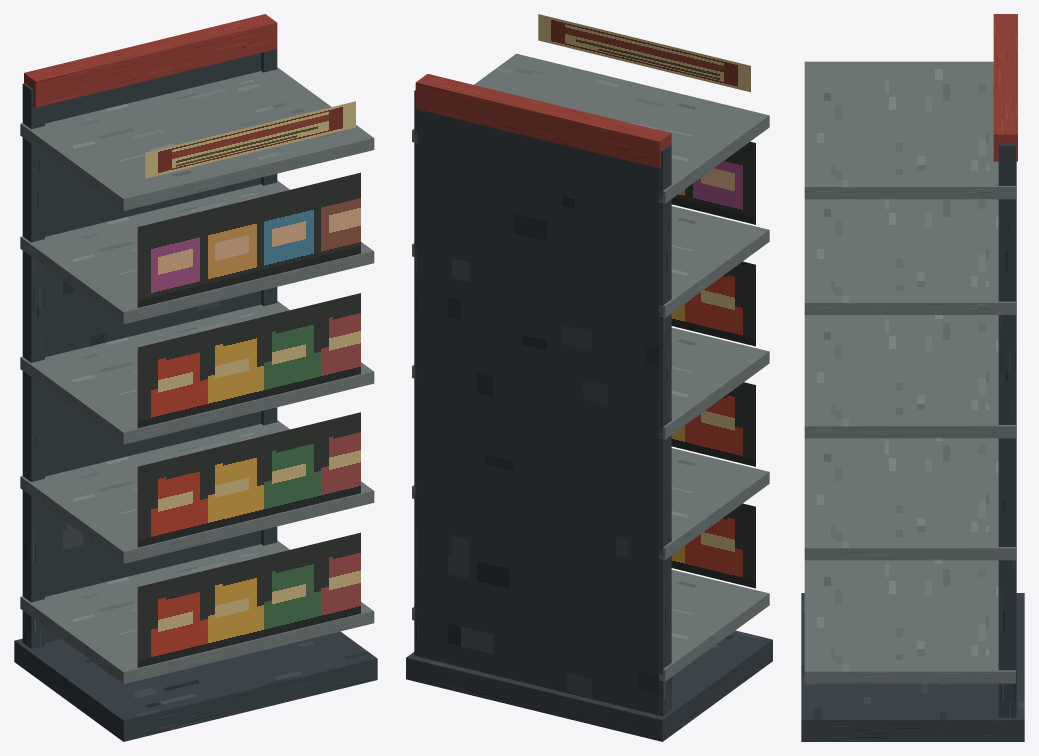
The model's file is rack_snacks_c02.glb.
3 renders of one model, left to right at view 1: azimuth 30°, elevation 25°; view 2: azimuth 150°, elevation 25°; view 3: azimuth 270°, elevation 25°, orthographic. The views are drawn at different scales.
Visible parts, largest first — view 1: rack_snacks_c02; view 2: rack_snacks_c02; view 3: rack_snacks_c02.
Boxes of the visible parts, box(x1,y1,x2,y2) form: rack_snacks_c02: box(14, 14, 377, 741); rack_snacks_c02: box(406, 14, 772, 741); rack_snacks_c02: box(801, 14, 1024, 741).
Size of the model in its own units: 0.6797 by 1.51 by 0.506.
1 material, 1 textured.
